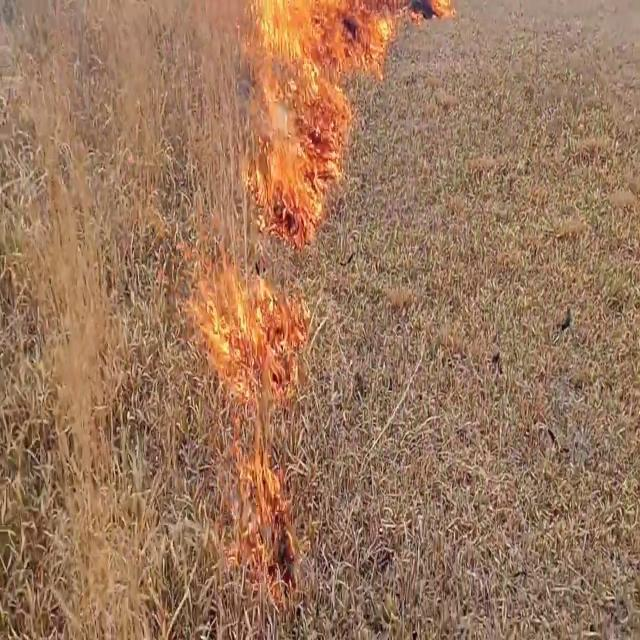Fire: (190, 216, 316, 598), (238, 1, 422, 210)
